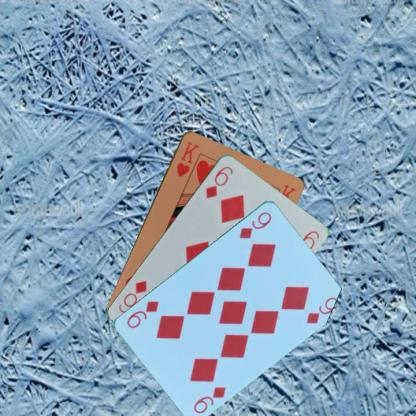6d: (202, 163, 234, 200)
9d: (237, 208, 273, 240), (190, 384, 228, 414)
Kh: (174, 139, 200, 178)
